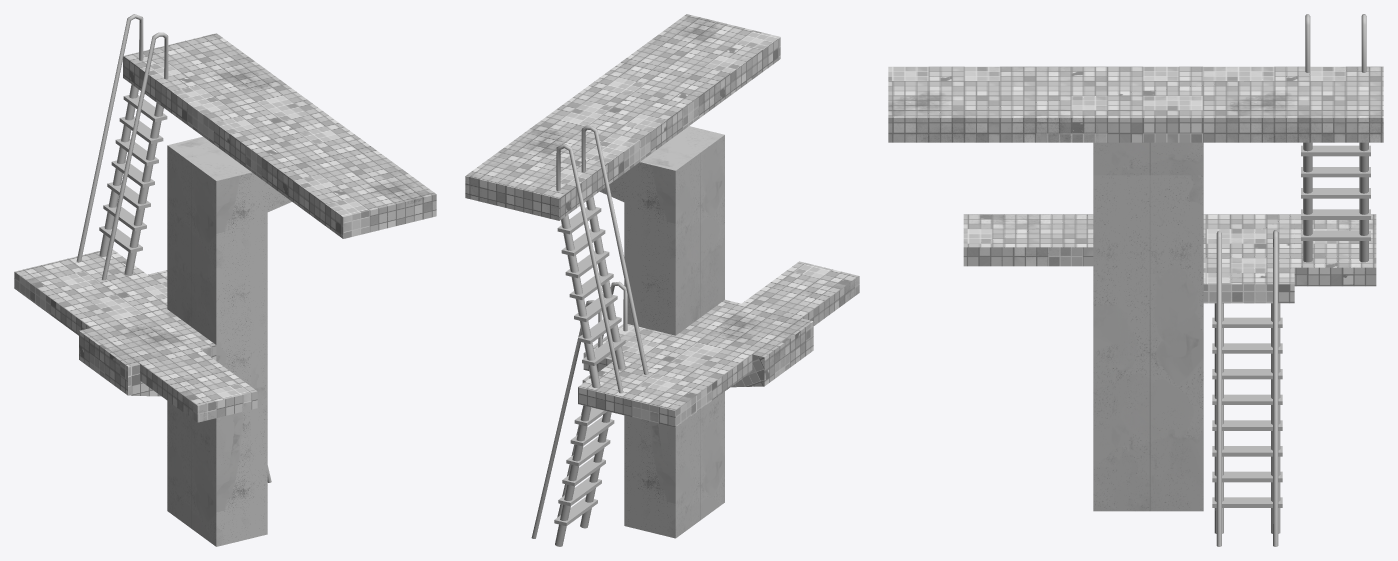
The model's file is BigJump.fbx.
3 renders of one model, left to right at view 1: azimuth 30°, elevation 25°; view 2: azimuth 150°, elevation 25°; view 3: azimuth 270°, elevation 25°, orthographic. The views are drawn at different scales.
Visible parts, largest first — view 1: BigJump; view 2: BigJump; view 3: BigJump.
Part boxes in pixels (bbox=[...]): BigJump: bbox=[14, 14, 436, 546]; BigJump: bbox=[465, 14, 859, 546]; BigJump: bbox=[888, 14, 1383, 546].
Size of the model in its own units: 335 by 588 by 647.
